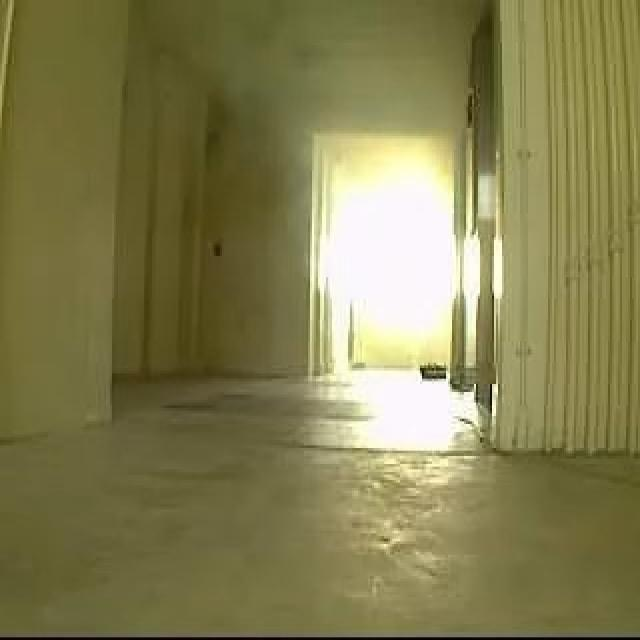smoke: (200, 16, 331, 188)
